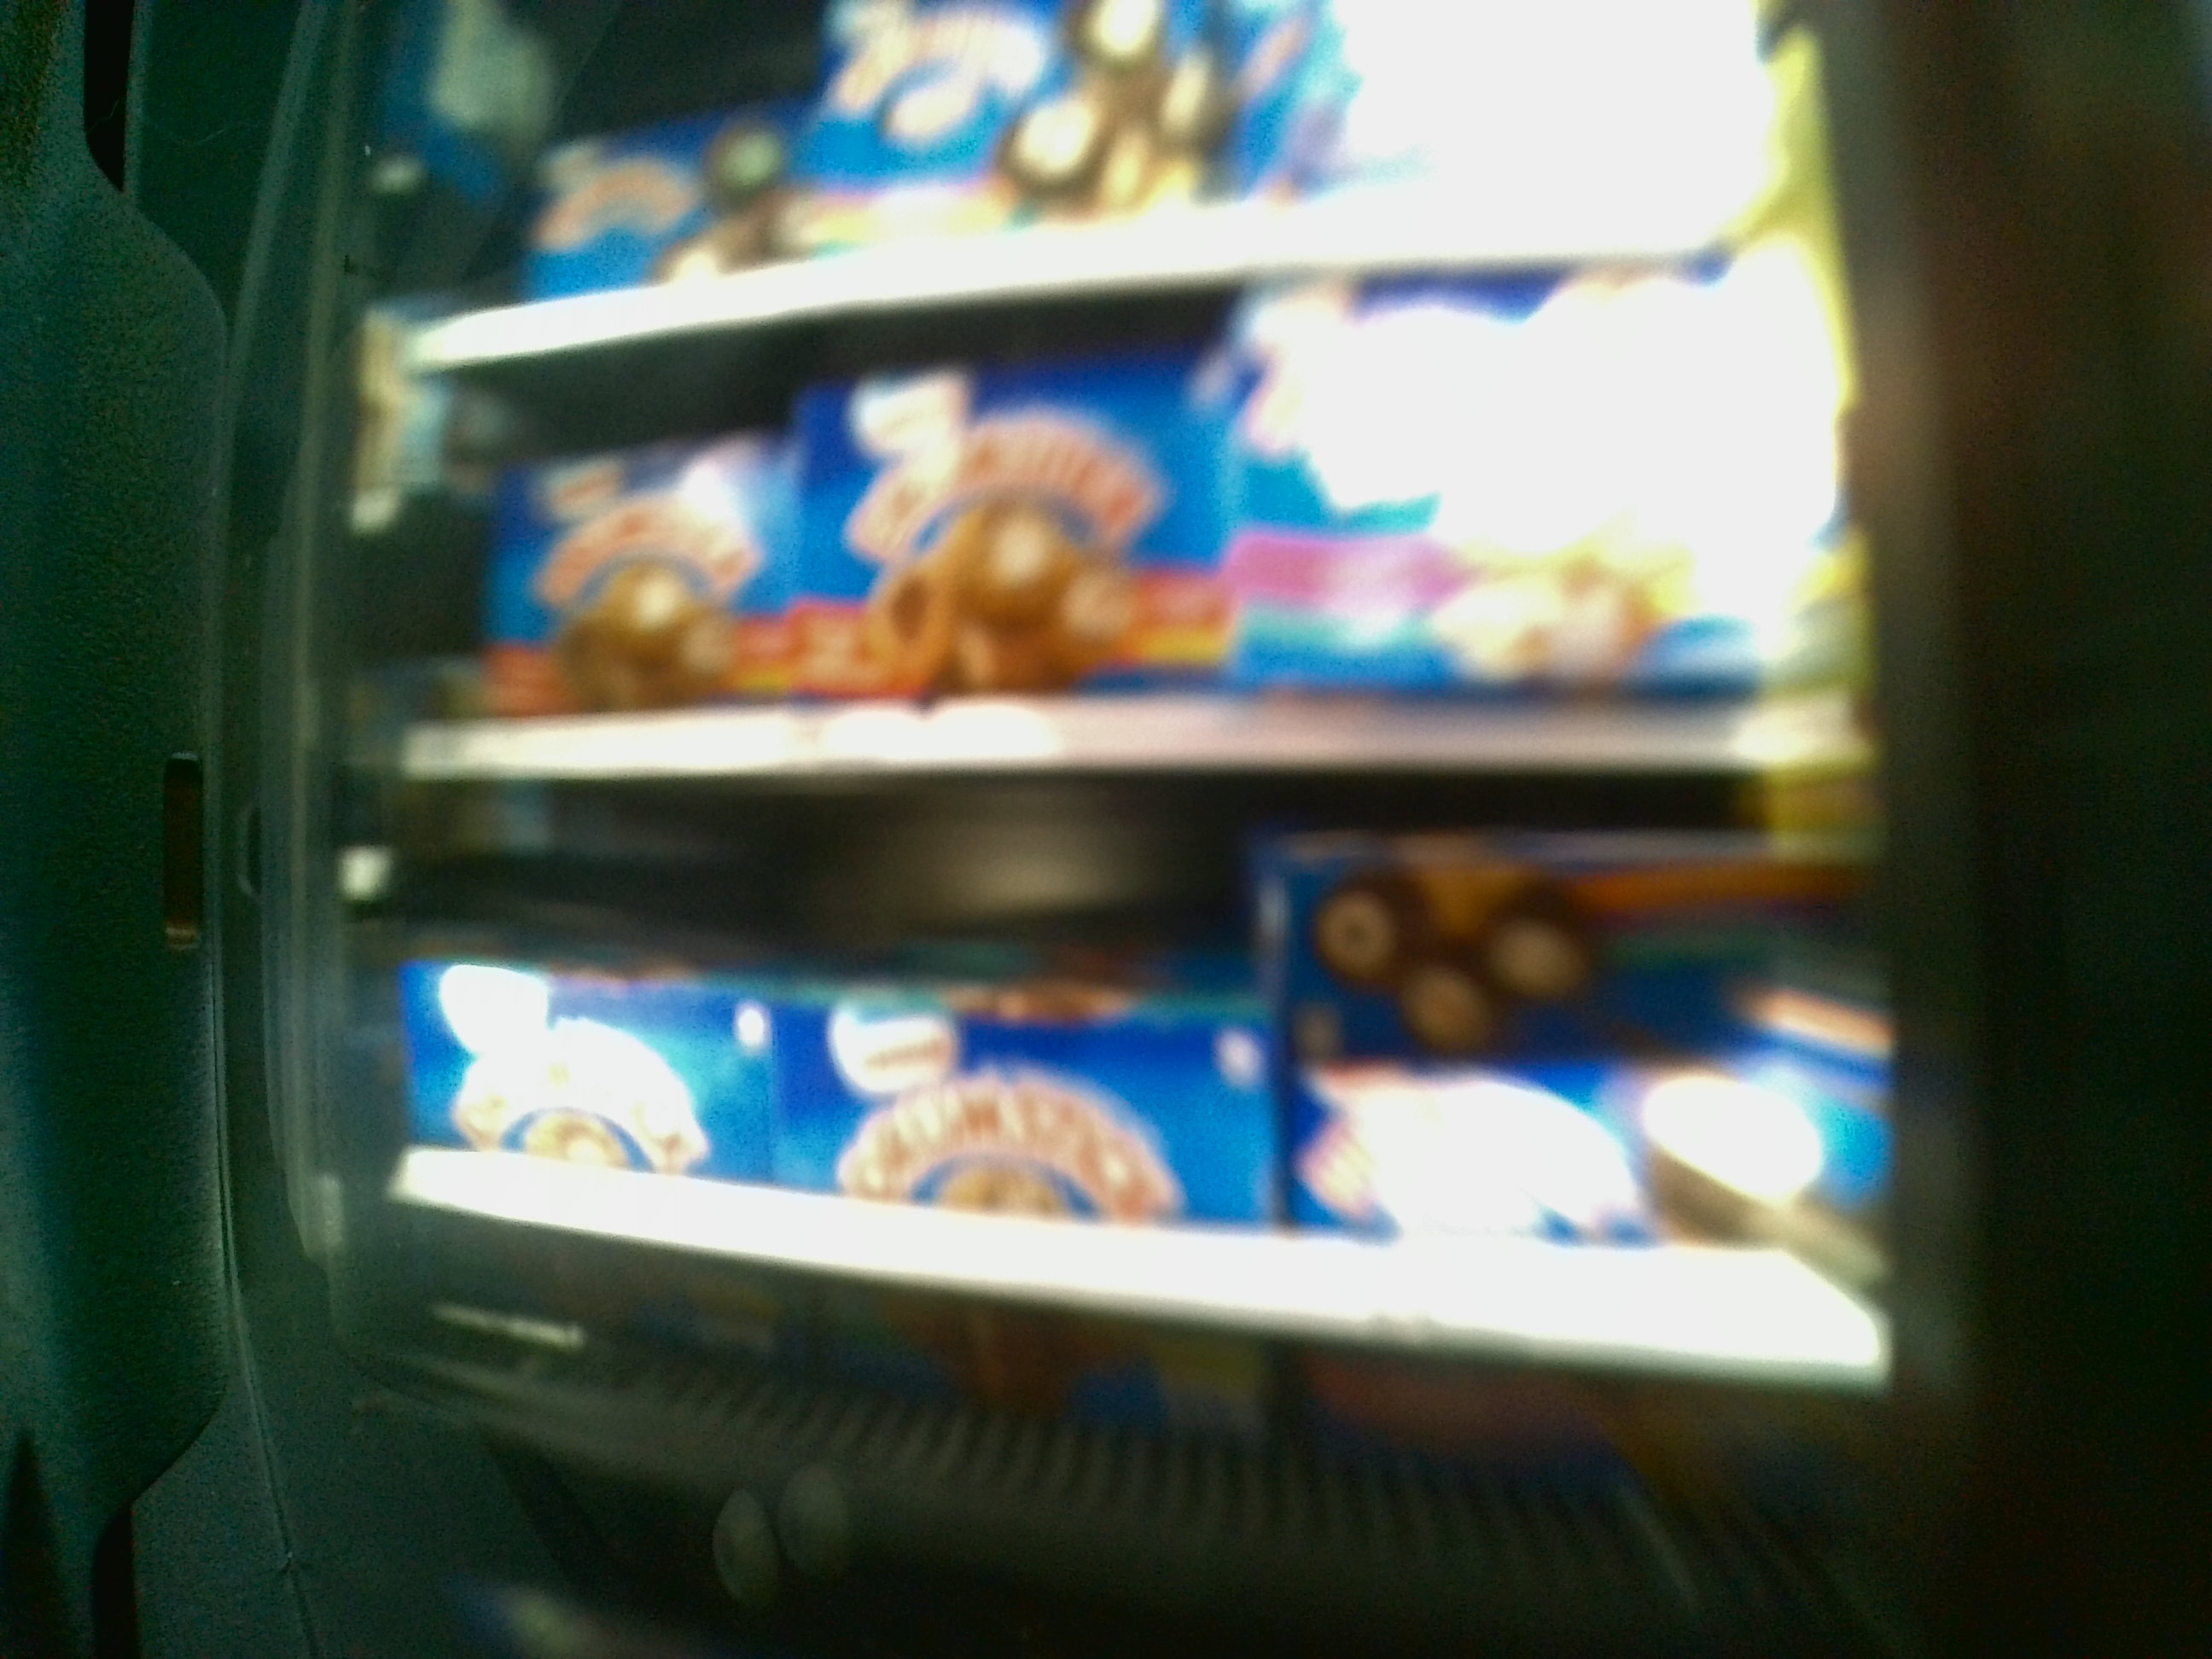shelf: (392, 793, 1916, 1417), (401, 272, 1869, 779)
